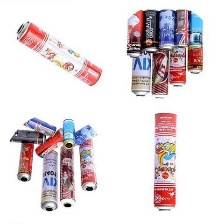aerosol_cans: (11, 17, 106, 87), (150, 110, 179, 214), (129, 31, 152, 98), (38, 149, 61, 213), (167, 29, 188, 91), (150, 35, 169, 102), (185, 23, 208, 76), (57, 146, 74, 208), (79, 136, 97, 193), (14, 140, 36, 184)
can: (32, 128, 70, 161), (139, 7, 162, 56), (125, 9, 146, 61), (68, 117, 102, 149), (155, 7, 177, 53), (185, 6, 207, 51), (5, 126, 49, 146), (20, 115, 58, 138), (172, 7, 192, 50), (61, 117, 76, 149)
